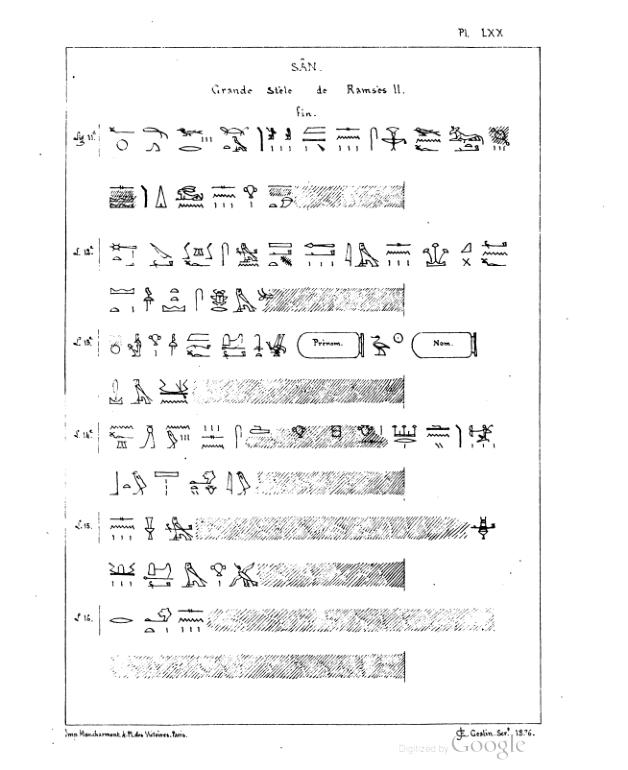circle: (405, 326, 482, 366), (292, 328, 372, 364)
